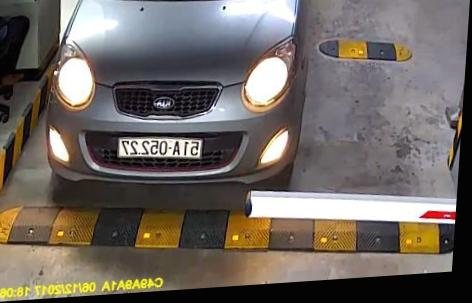License_Plate: (110, 133, 206, 163)
